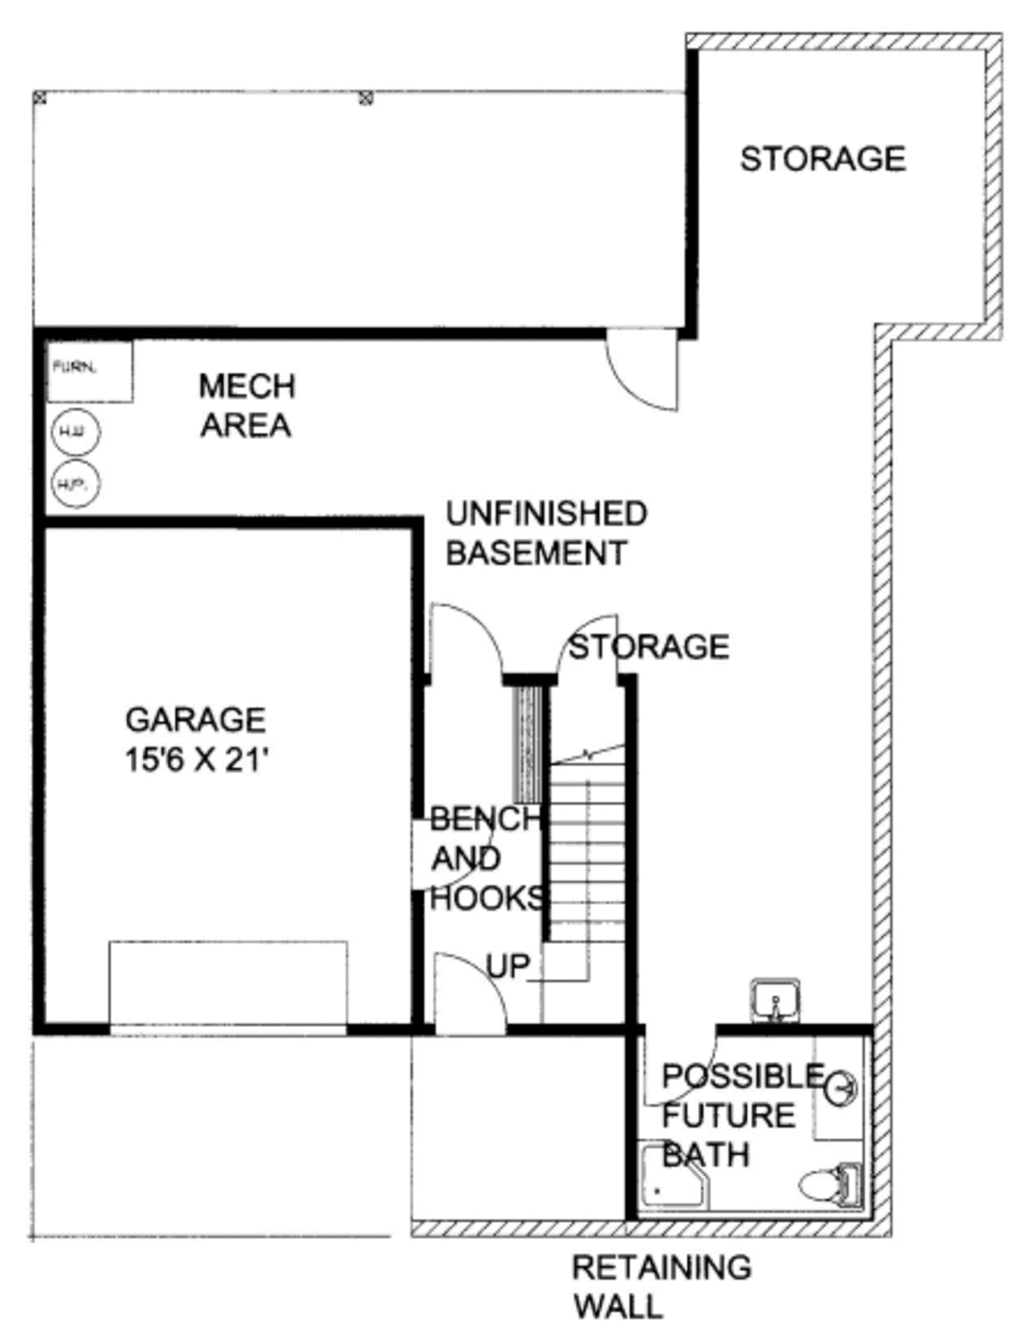door: (411, 801, 500, 893), (429, 940, 512, 1038), (427, 591, 515, 679), (639, 1016, 719, 1109), (602, 322, 684, 411), (559, 595, 635, 679)
large_sink: (772, 1163, 868, 1211)
small_sink: (735, 954, 823, 1020), (825, 1062, 866, 1120)
stairs: (541, 722, 631, 1020)
